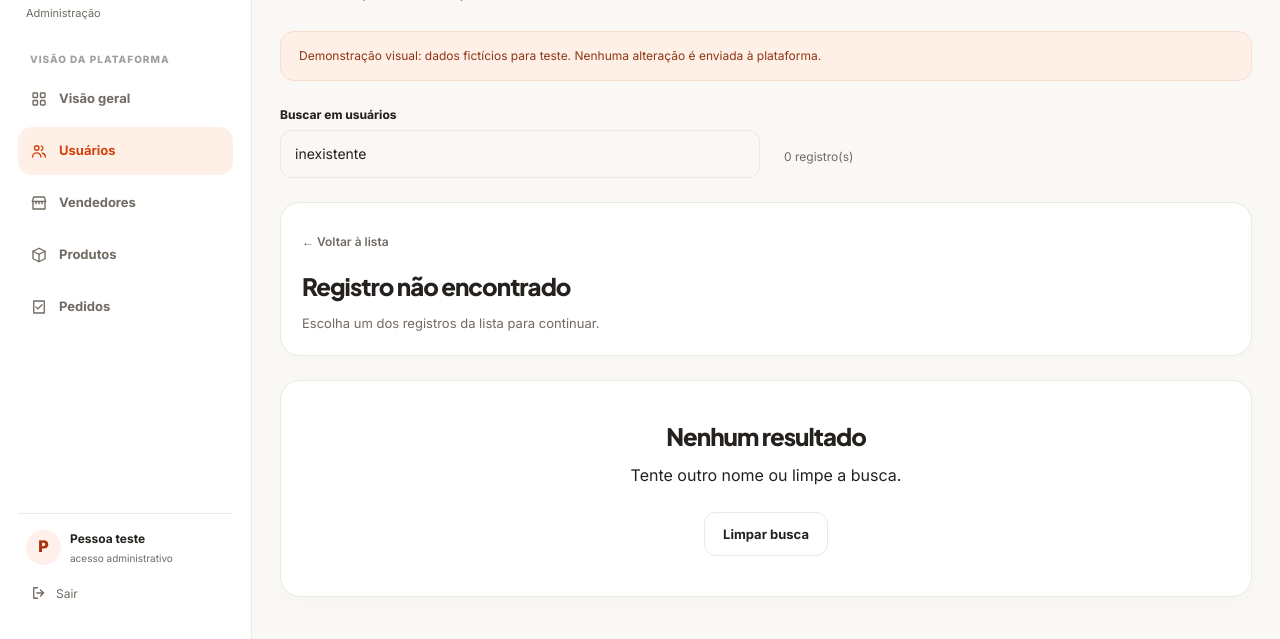
Test: Áreas de operação › recupera busca e detalhe diretamente pelo endereço e limpa resultados vazios
(page scrolled)
Expected: the heading "Registro não encontrado" is shown, [302,271,570,301]
Click the button "Limpar busca" at (766, 534), box [704,512,828,556]
(page scrolled)
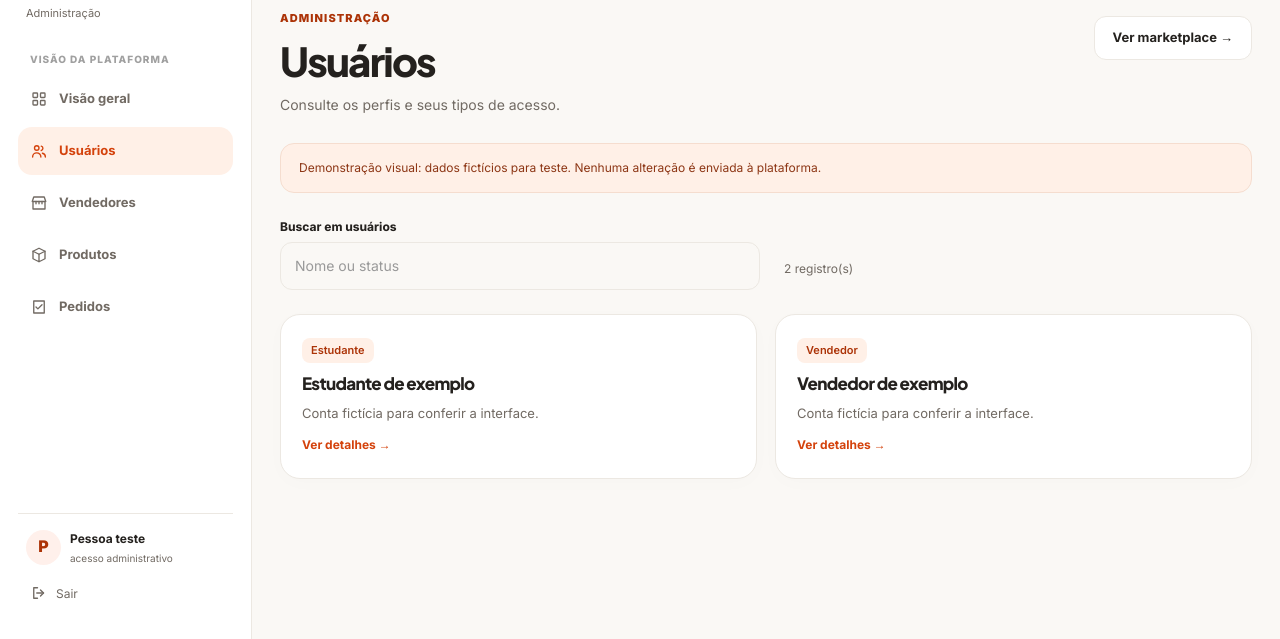
Expected: the search field is empty, [280,242,760,290]
Expected: the heading "Estudante de exemplo" is shown, [302,372,474,394]
